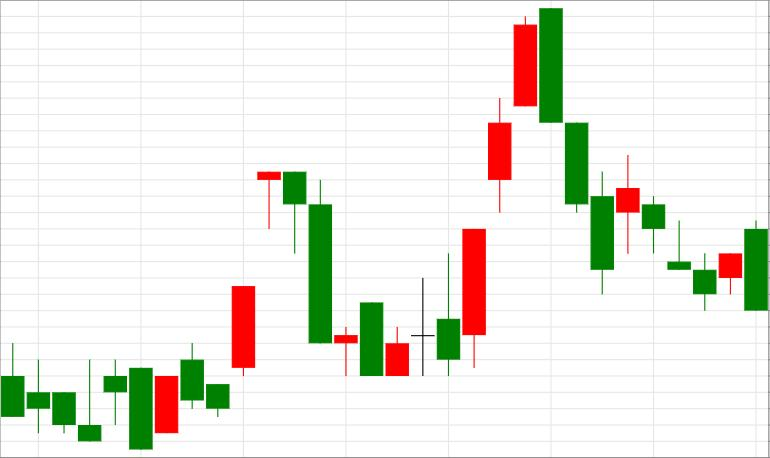bearish_engulfing_fall: (386, 9, 562, 377)
hanging_man_fall: (155, 171, 306, 433)
